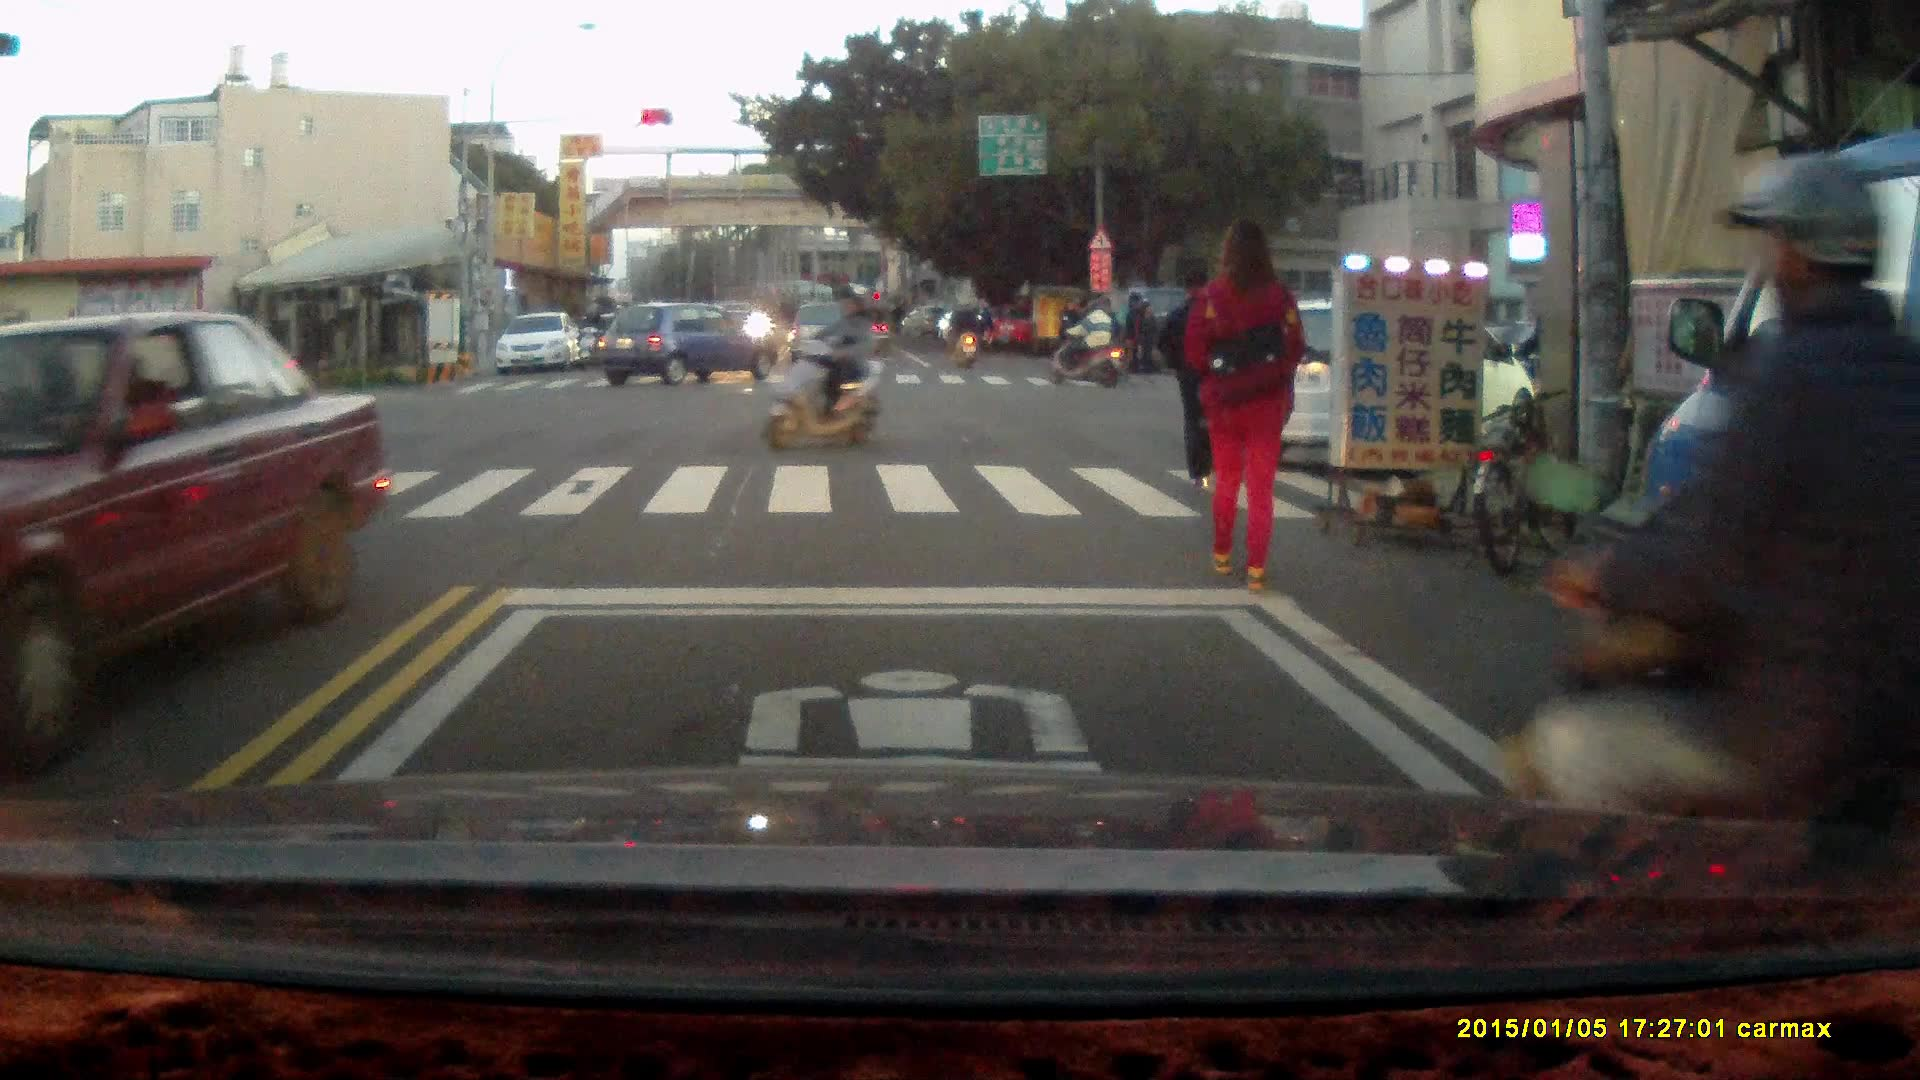pedestrian: (1178, 213, 1308, 594), (1157, 260, 1244, 489), (1128, 298, 1158, 378)
rider: (1508, 154, 1920, 880), (763, 283, 894, 453), (1046, 296, 1125, 388), (943, 292, 984, 371), (575, 302, 607, 369)
vehicle: (1598, 132, 1920, 877), (1, 312, 386, 745), (1233, 296, 1533, 459), (601, 304, 782, 390), (498, 313, 586, 377)
